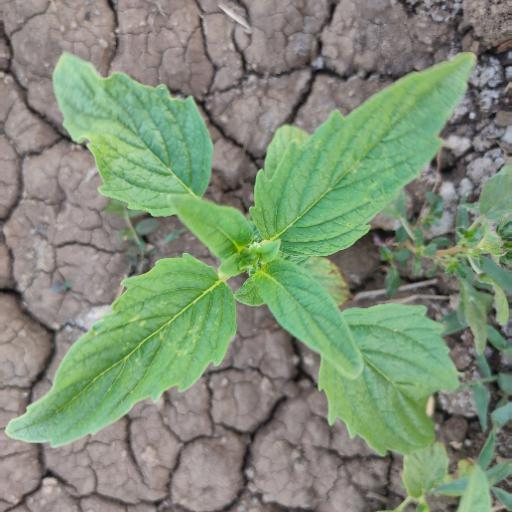crop: (23, 48, 471, 454)
